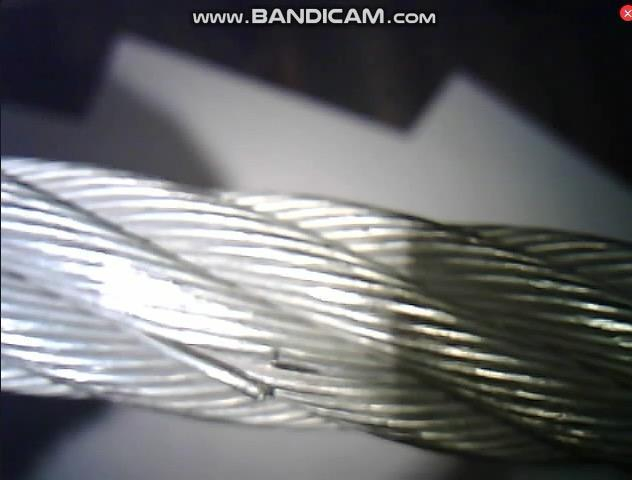break: (222, 331, 302, 406)
